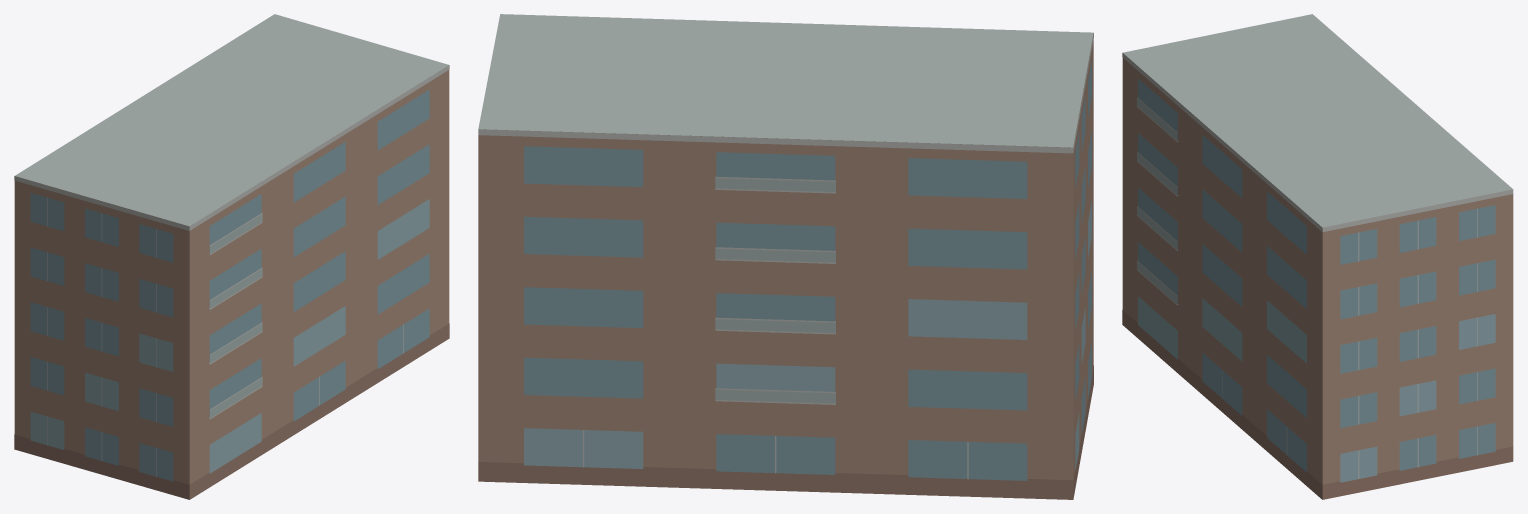
Rendered from survey-upis-32696679.glb.
3 views of the same model, side by side, from view 1: azimuth 30°, elevation 25°; view 2: azimuth 150°, elevation 25°; view 3: azimuth 270°, elevation 25° (orthographic). The views are drawn at different scales.
Visible parts, largest first — view 1: survey-upis-32696679.tmp; view 2: survey-upis-32696679.tmp; view 3: survey-upis-32696679.tmp.
Part boxes in pixels (<box>): survey-upis-32696679.tmp: <box>14,14,449,499</box>; survey-upis-32696679.tmp: <box>478,14,1093,499</box>; survey-upis-32696679.tmp: <box>1122,14,1513,499</box>.
Size of the model in its own units: 24.41 by 14.5 by 18.87.
